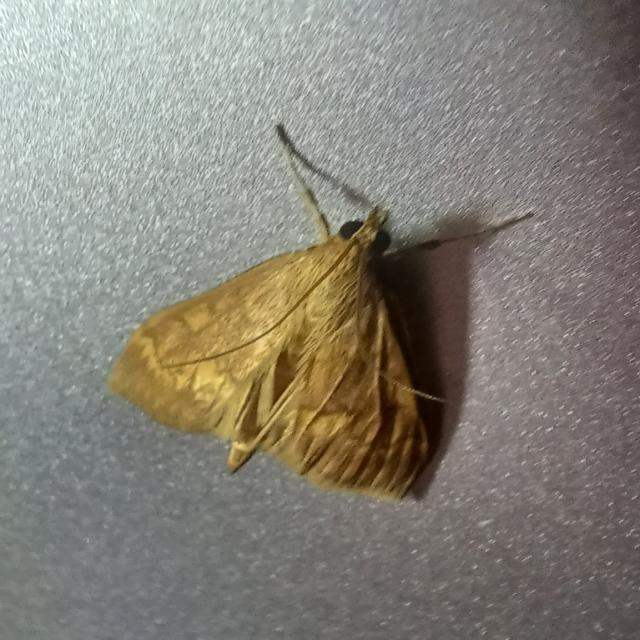cornborer-Adult-: (89, 115, 517, 521)
